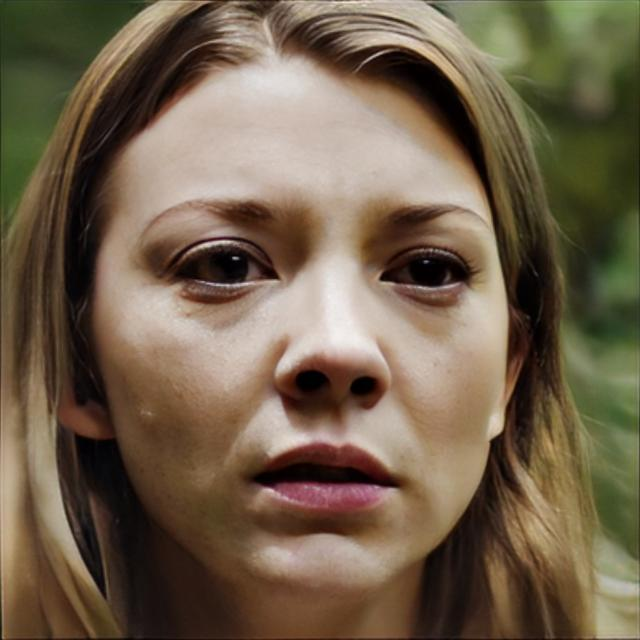sad: (96, 34, 510, 592)
